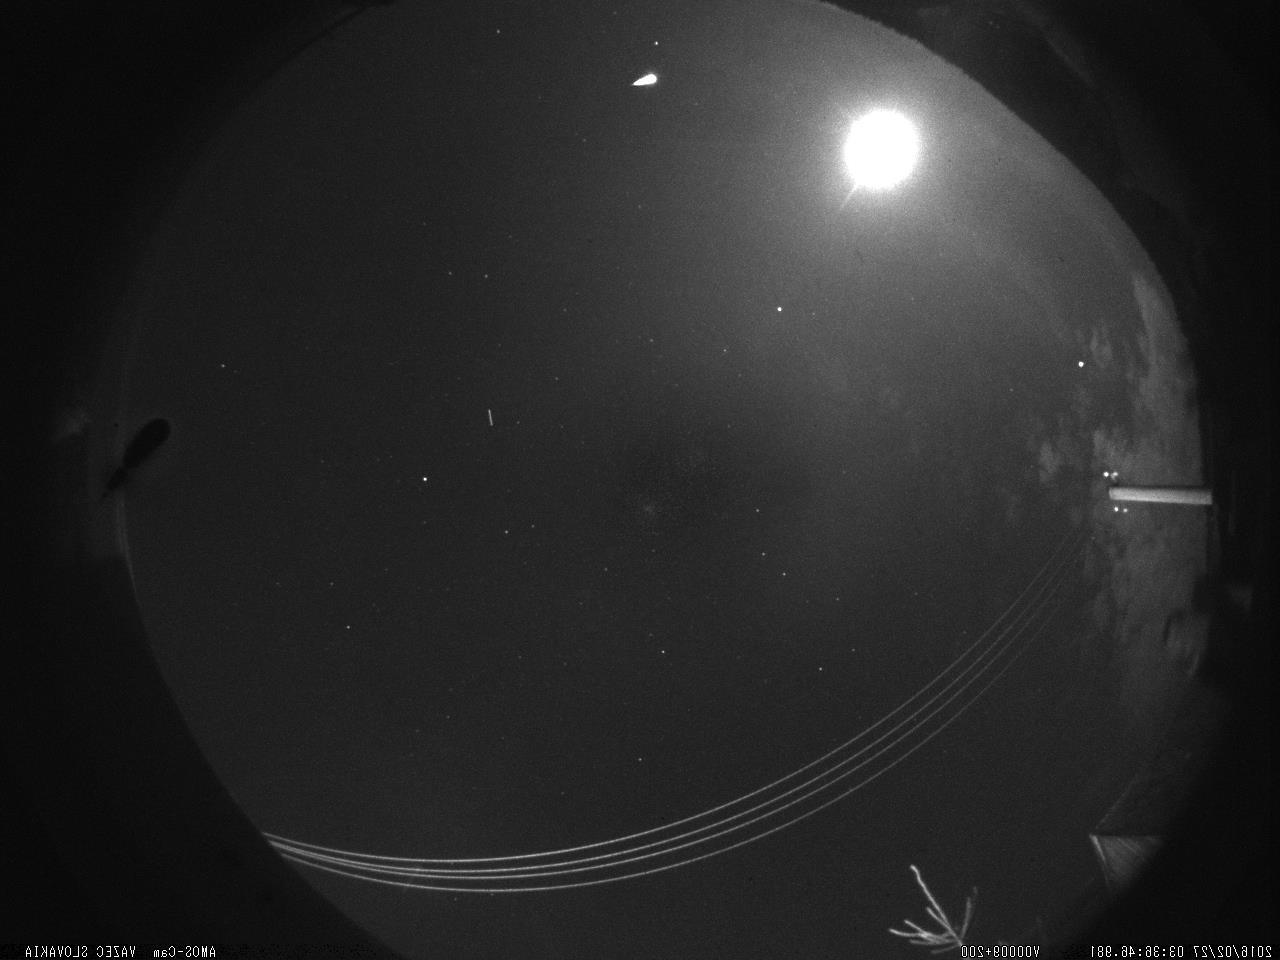meteor: (145, 384, 498, 394)
